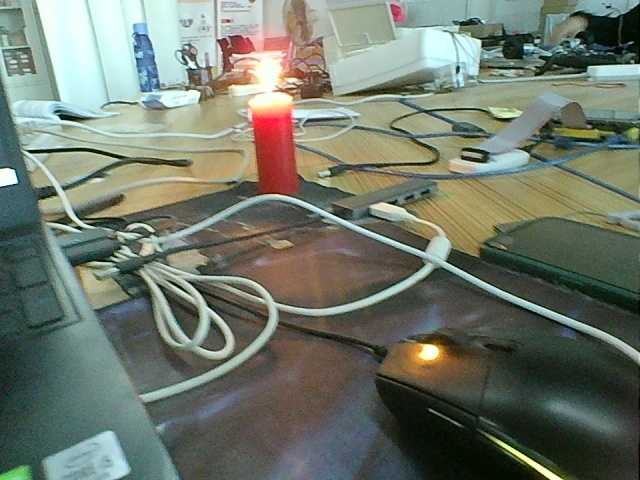candle: (244, 101, 305, 202)
fire: (249, 54, 286, 96)
